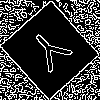Y: (25, 25, 80, 80)
